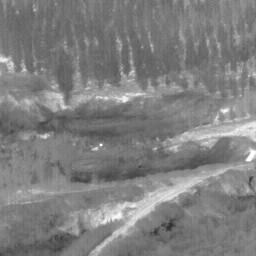aircraft: (100, 144, 102, 146)
